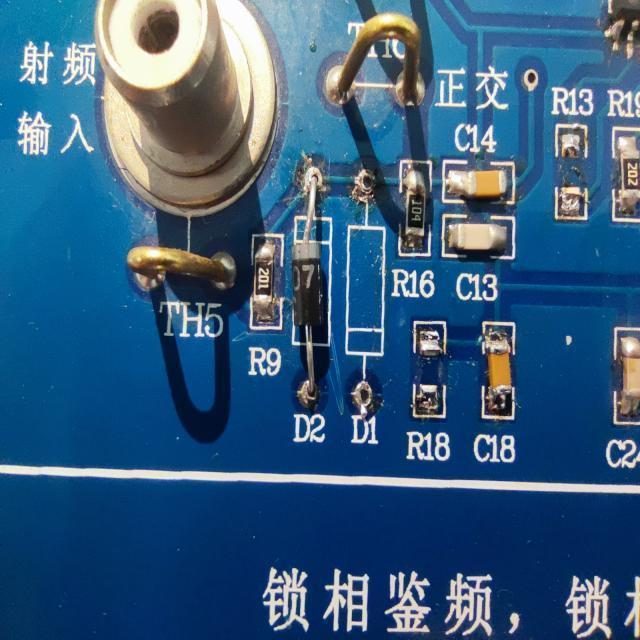Missing component: (344, 159, 392, 445), (406, 310, 454, 470), (548, 82, 596, 226)
